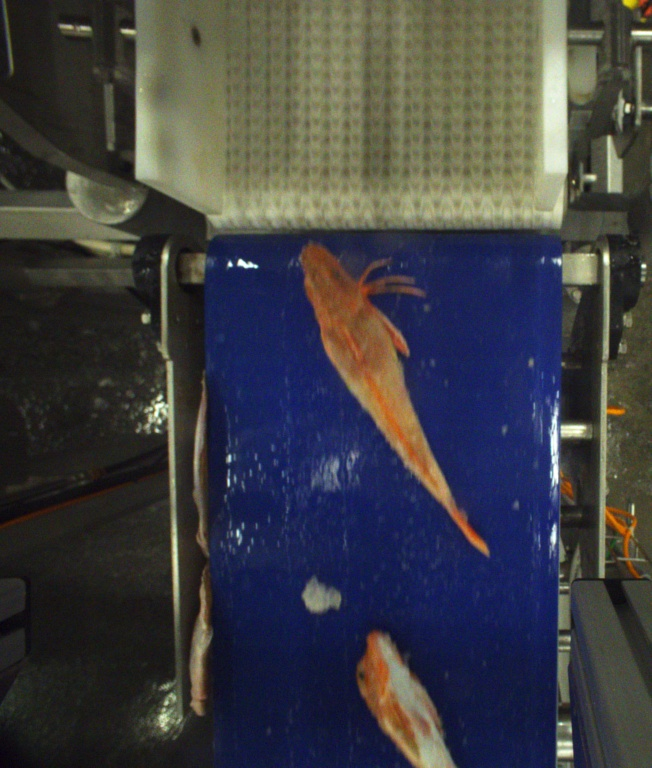GUU: (297, 241, 490, 556)
